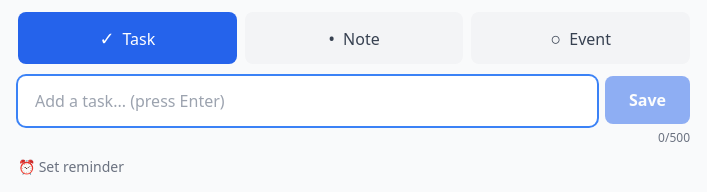
it: EntryInput › should switch to event type when selected
What coordinates should you click on to do the following:
click the button "○Event"
I would click on:
 (581, 38)
Its box is [471,12,690,64].
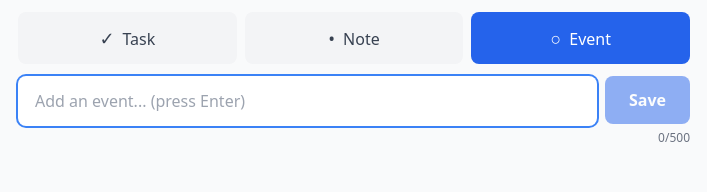
Check: the field with placeholder "Add an event... (press Enter)" is shown, box [18,76,597,126]
